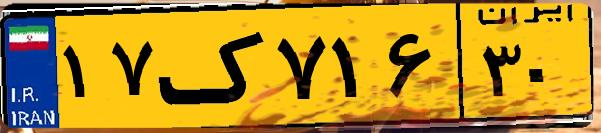0: (525, 38, 570, 115)
1: (330, 28, 385, 110), (57, 26, 110, 100)
3: (475, 38, 525, 113)
6: (385, 28, 445, 110)
7: (270, 28, 330, 110), (110, 28, 158, 98)
ک: (158, 12, 270, 120)
